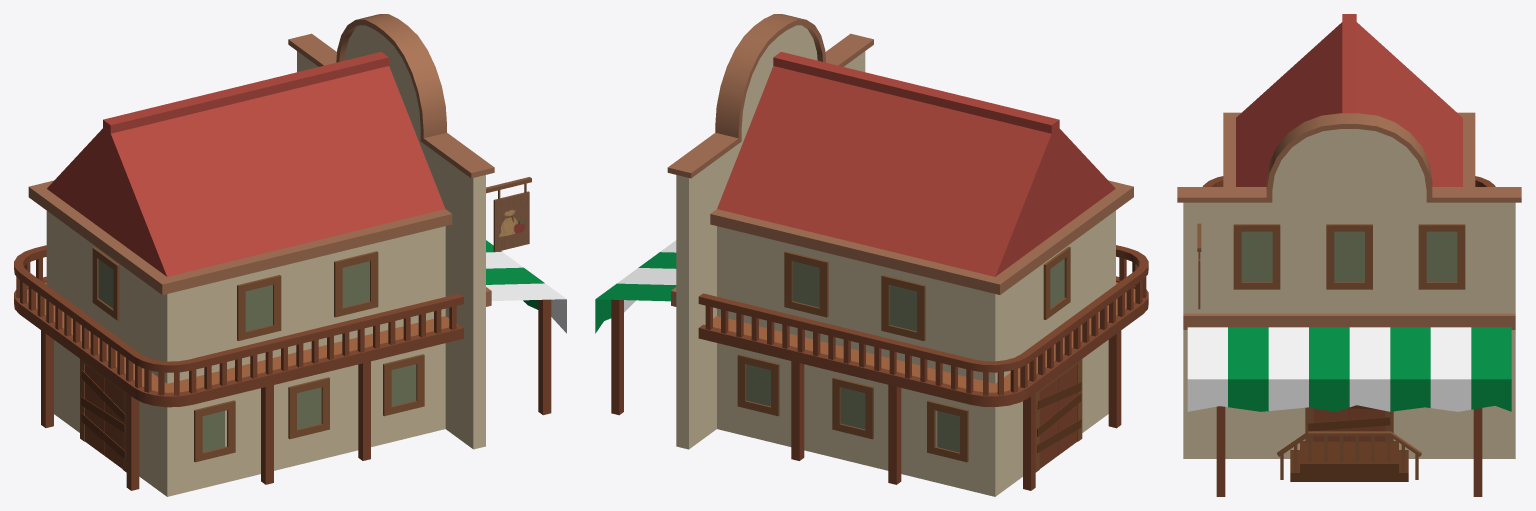
File: Shop_Einzelobjekt.fbx
3 renders of one model, left to right at view 1: azimuth 30°, elevation 25°; view 2: azimuth 150°, elevation 25°; view 3: azimuth 270°, elevation 25°, orthographic. The views are drawn at different scales.
Parts seen in each view (by area): view 1: Korpus; view 2: Korpus; view 3: Korpus.
Boxes of the visible parts, left/top/right/bottom form: Korpus: left=14, top=14, right=566, bottom=496; Korpus: left=595, top=14, right=1148, bottom=496; Korpus: left=1177, top=14, right=1521, bottom=496.
Size of the model in its own units: 853 by 726 by 668.
